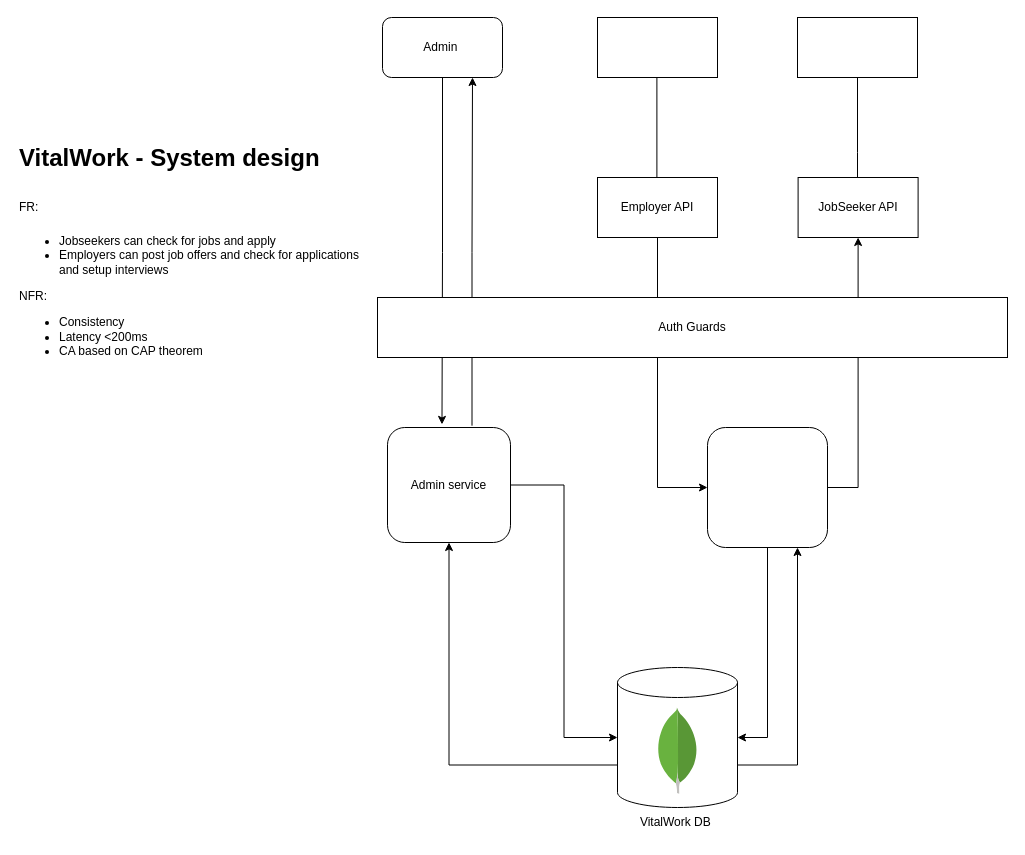
Image size: 1025x855. Some labels were removed from this diagram. The shapes that lost their labels are listed below. From the top down, each one's box as (x1, y1, x2, y2) in pixels, then its label:
(596, 16, 718, 78): User (Employer)
(796, 16, 918, 78): JobSeeker
(706, 426, 828, 548): Job offers service
